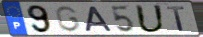5: (109, 5, 136, 33)
9: (26, 4, 55, 34)
A: (84, 6, 115, 33)
G: (53, 5, 82, 33)
T: (166, 6, 188, 32)
U: (134, 4, 168, 34)
